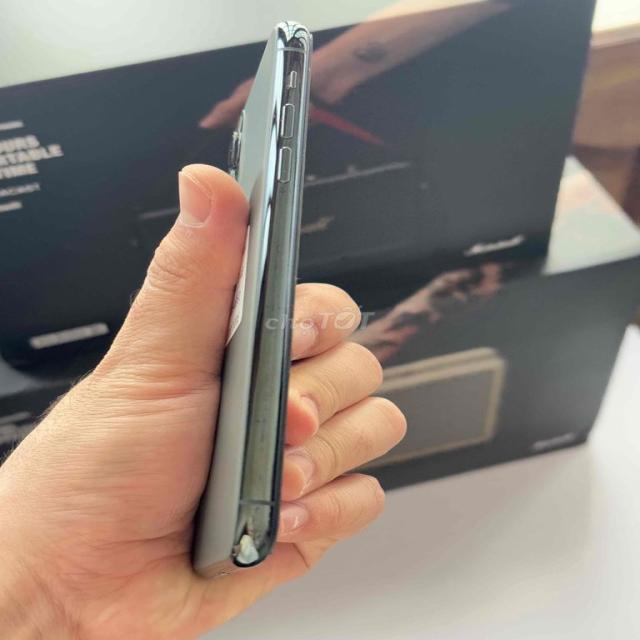gen_11: (187, 21, 310, 589)
